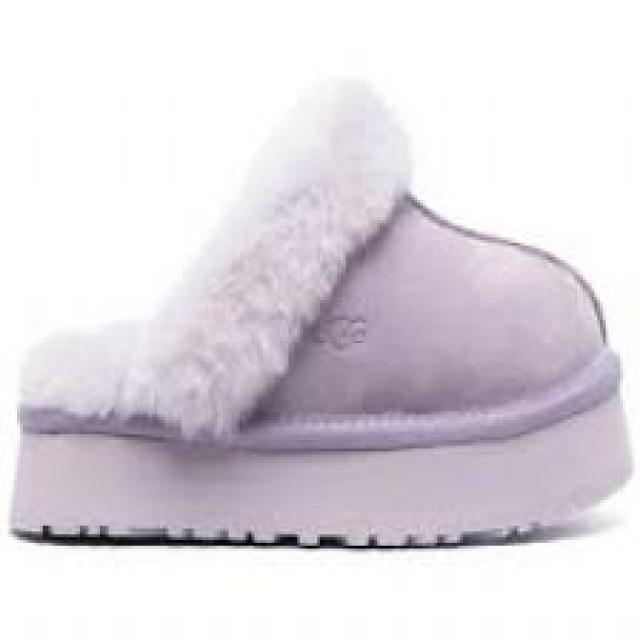shoe: (16, 81, 635, 547)
